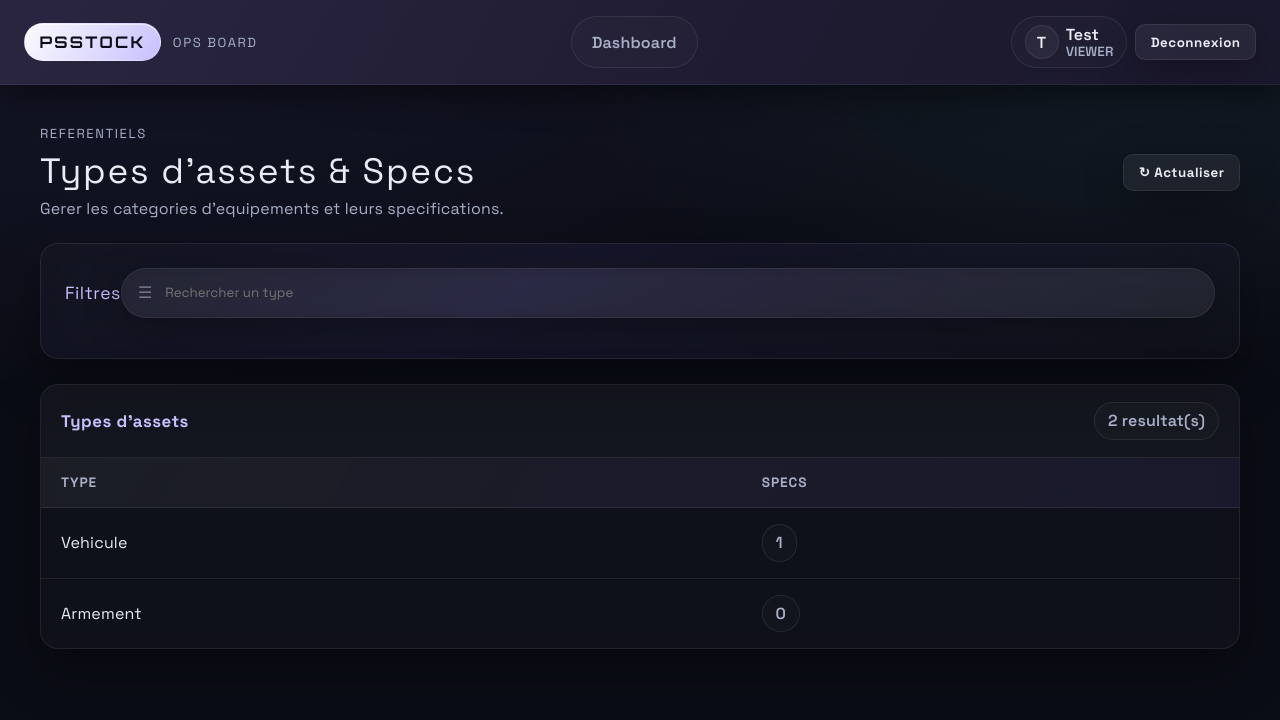
Test case: AssetTypesPage – search › filters types by search text
The image size is (1280, 720).
Expected: the text "Vehicule" is shown, [41, 508, 742, 578]
In the field with placeholder "Rechercher un type": x=682, y=294 [165, 285, 1198, 302], type "arm"
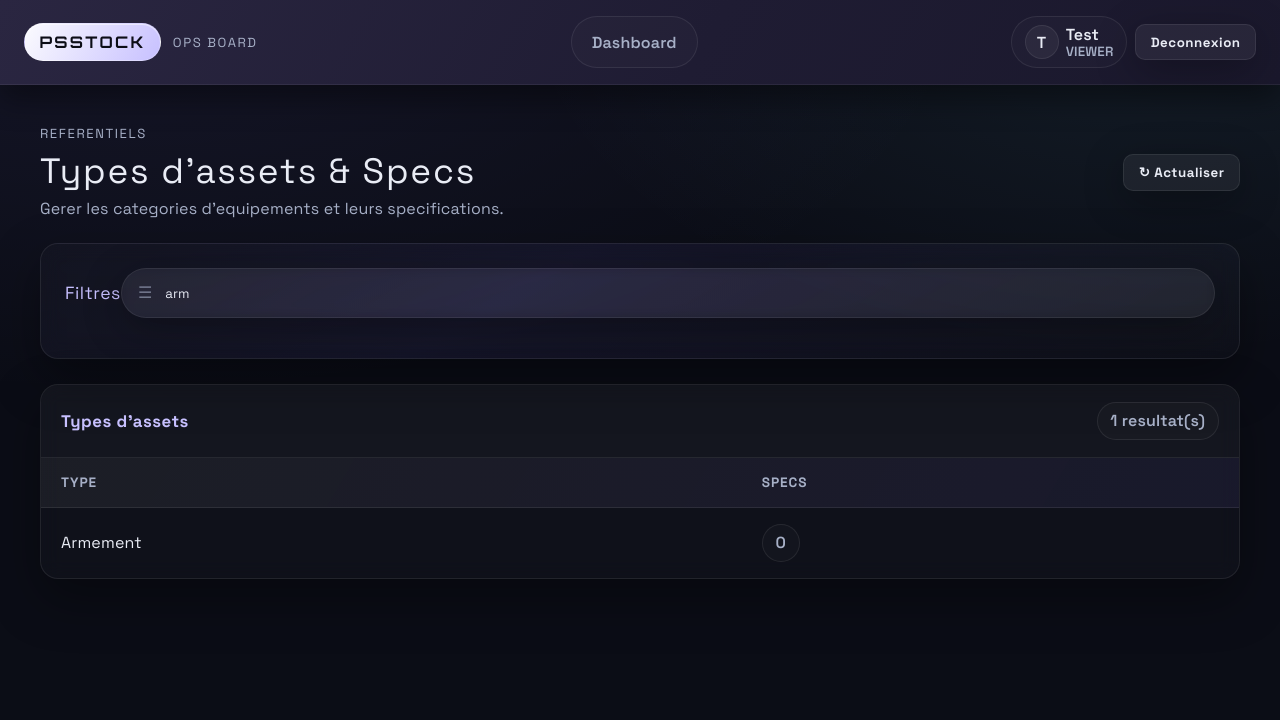
Expected: the text "Armement" is shown, [41, 508, 742, 578]
Now the text "Vehicule" is gone
